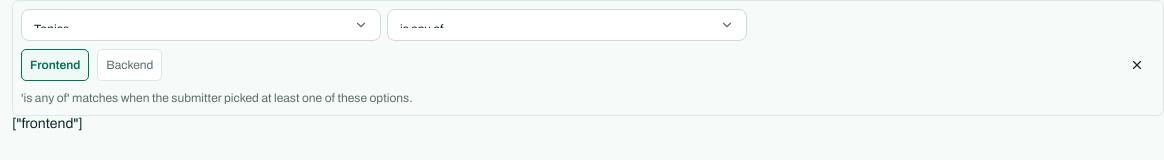
Test case: ConditionRow value arity › drops a multi-value selection when the operator stops taking a set
Click the button "Backend": (130, 65) [97,49,162,81]
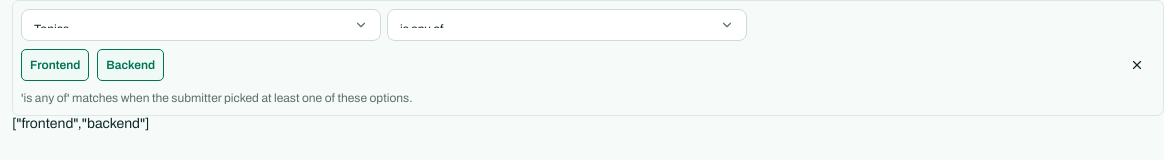
Select "is" in the dropdown named "Operator": (567, 25) [387,9,747,41]
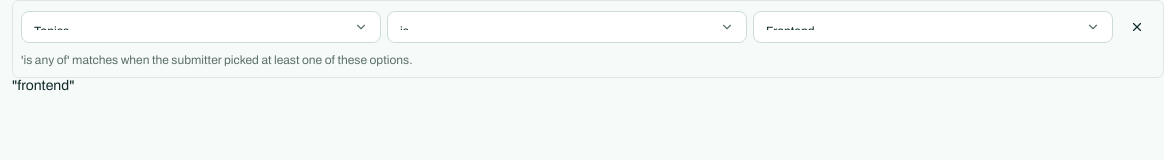
Now the text with test id "value" reads "\"frontend\"", box [12,78,74,93]
